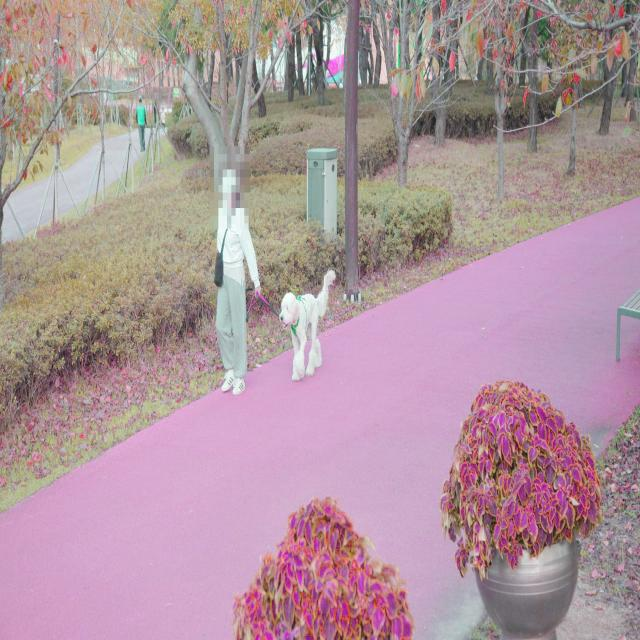Leashed_Dog: (238, 270, 336, 383)
